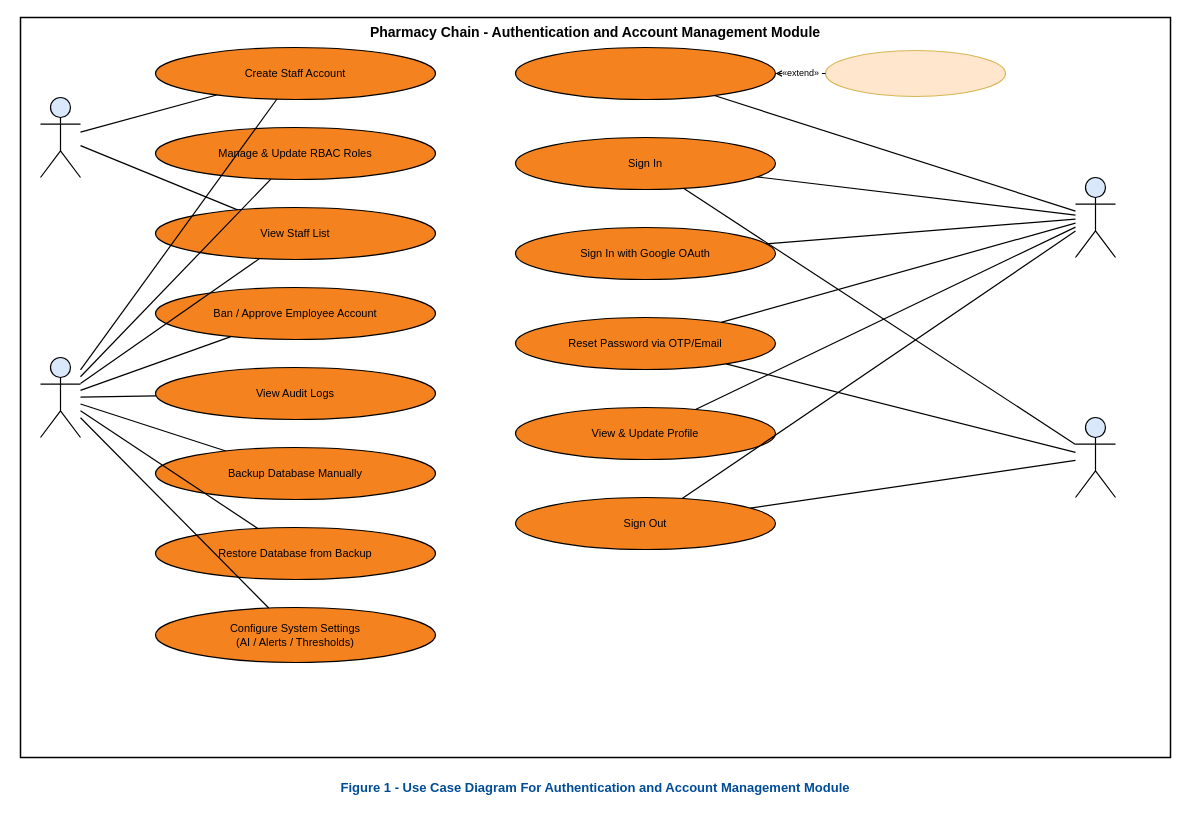
The diagram is 1189 pixels wide and 820 high, and some of its shapes have lost their labels. The centre of each missing label's shape, as x and y in pixels:
Admin: pixel 60 397
Branch Manager: pixel 60 137
Customer: pixel 1095 217
Pharmacist: pixel 1095 457
Register Account (Customer): pixel 645 73
Verify OTP / Email: pixel 915 73
